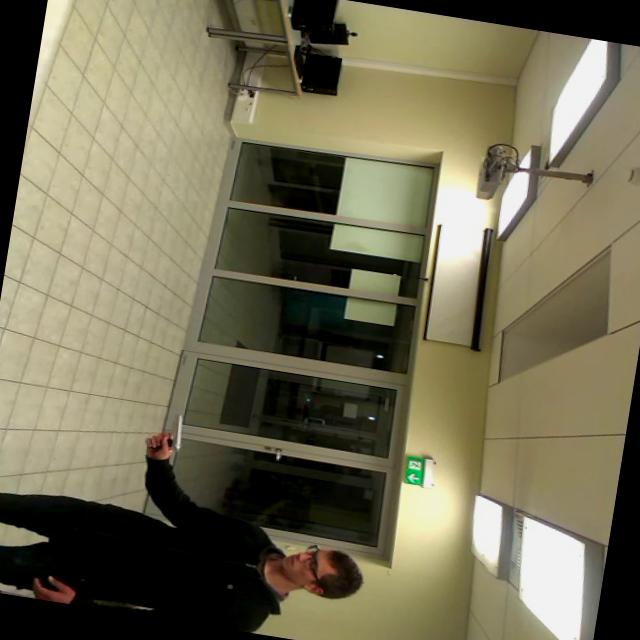handgun: (130, 408, 210, 461)
